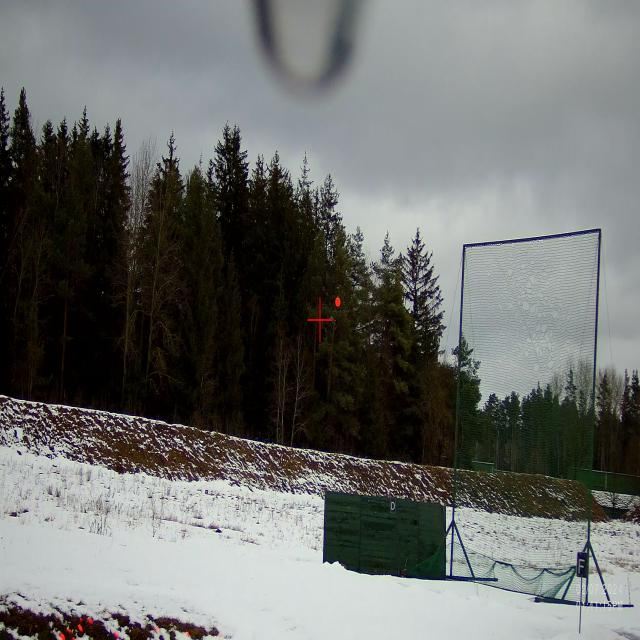entire: (331, 291, 345, 313)
